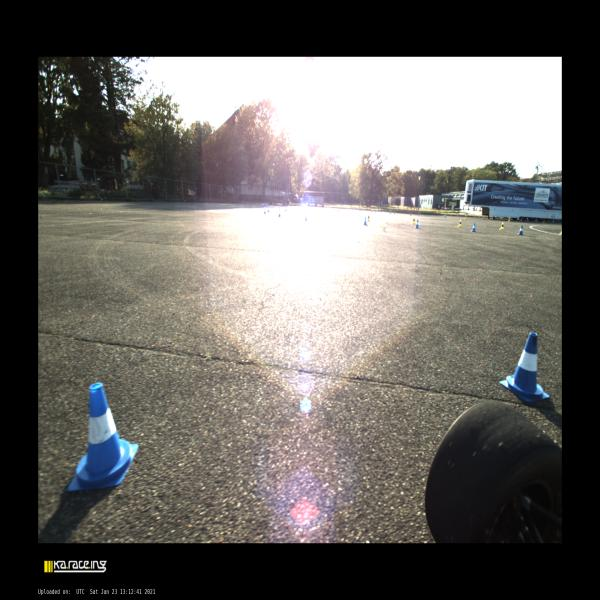blue_cone: (65, 381, 140, 494), (499, 332, 550, 404), (517, 225, 524, 235), (470, 222, 476, 232), (414, 219, 419, 228), (363, 216, 367, 225), (305, 214, 308, 221), (278, 210, 281, 217), (264, 208, 266, 214), (267, 206, 269, 212), (285, 206, 287, 212), (482, 216, 485, 219), (520, 218, 522, 222), (410, 212, 412, 216), (444, 215, 446, 218), (390, 212, 391, 214), (375, 210, 376, 212)
yellow_cone: (499, 222, 505, 230), (458, 219, 462, 227), (367, 214, 370, 222), (413, 218, 415, 224), (543, 220, 545, 224), (508, 218, 510, 222), (464, 215, 466, 219), (418, 212, 420, 216), (393, 211, 394, 215)
